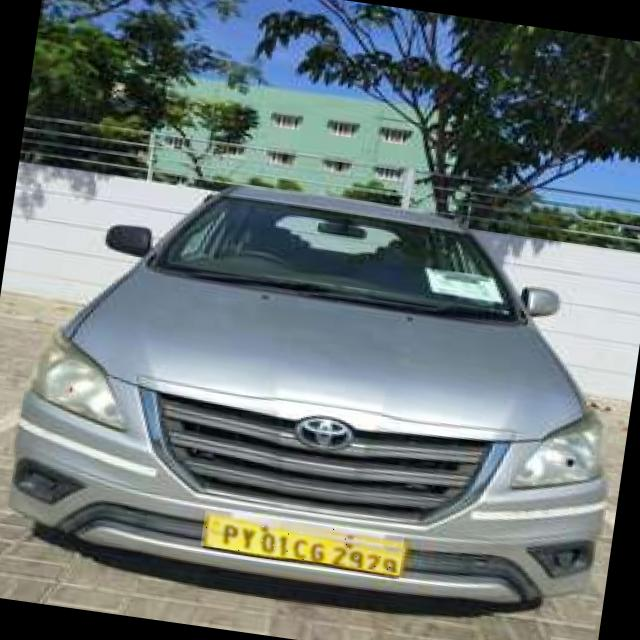Plate: (202, 511, 406, 575)
